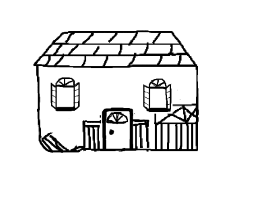door: (96, 104, 136, 155)
open_window: (142, 78, 172, 112), (51, 77, 79, 111)
roof: (32, 27, 199, 70)
wall: (33, 63, 202, 155)
